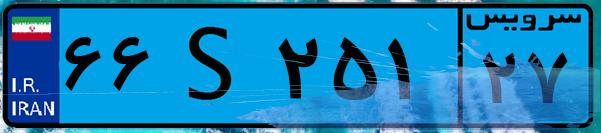1: (385, 28, 445, 110)
2: (270, 28, 330, 110), (475, 38, 525, 113)
5: (330, 28, 385, 110)
6: (57, 26, 110, 100), (110, 28, 158, 98)
7: (525, 38, 570, 115)
S: (158, 12, 270, 120)
